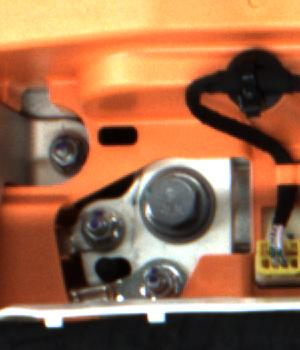nut_b: (141, 164, 220, 247)
screw_s: (78, 196, 115, 242), (136, 264, 186, 298), (45, 134, 79, 163)
